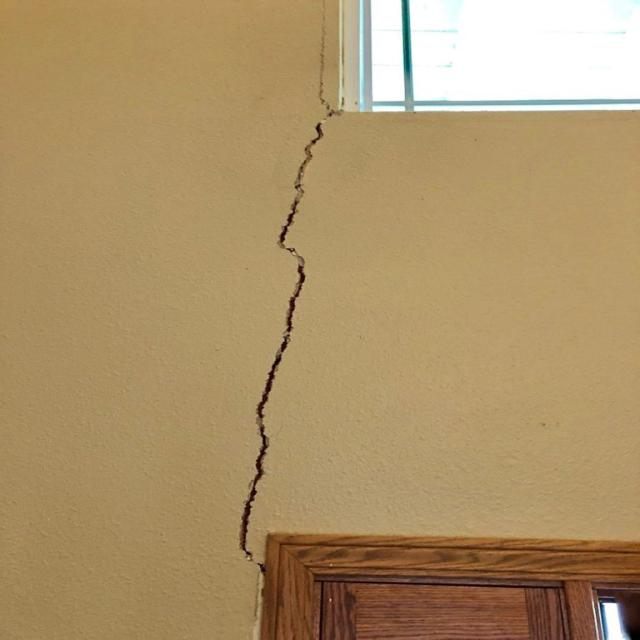Crack: (232, 0, 340, 574)
